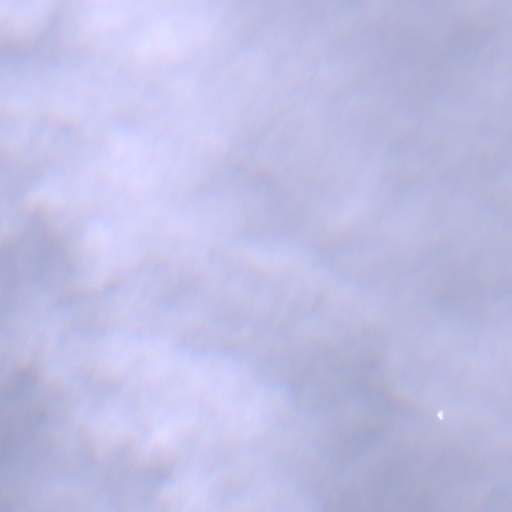Iceberg: (437, 410, 442, 419)
